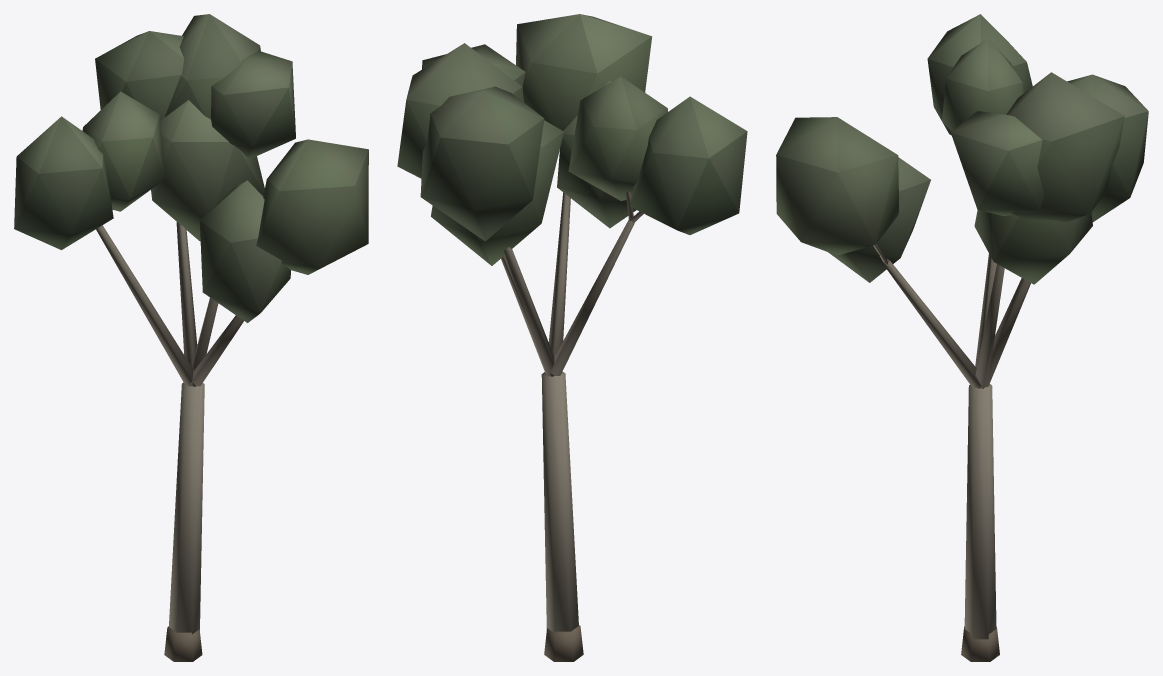
Rendered from env_eucalypt.glb.
3 views of the same model, side by side, from view 1: azimuth 30°, elevation 25°; view 2: azimuth 150°, elevation 25°; view 3: azimuth 270°, elevation 25° (orthographic). The views are drawn at different scales.
Visible parts, largest first — view 1: env_eucalypt; view 2: env_eucalypt; view 3: env_eucalypt.
Boxes of the visible parts, x1=… form: env_eucalypt: x1=14, y1=14, x2=368, y2=661; env_eucalypt: x1=397, y1=14, x2=747, y2=661; env_eucalypt: x1=776, y1=14, x2=1148, y2=661.
Size of the model in its own units: 8.83 by 17.37 by 9.56.
